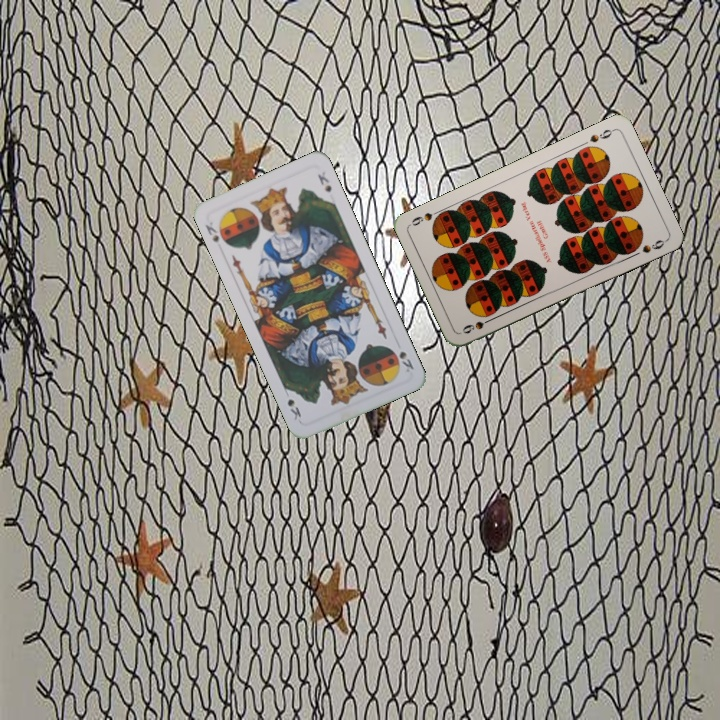S9: (458, 313, 497, 336), (586, 125, 617, 145)
SK: (395, 347, 416, 375), (201, 218, 222, 245)
